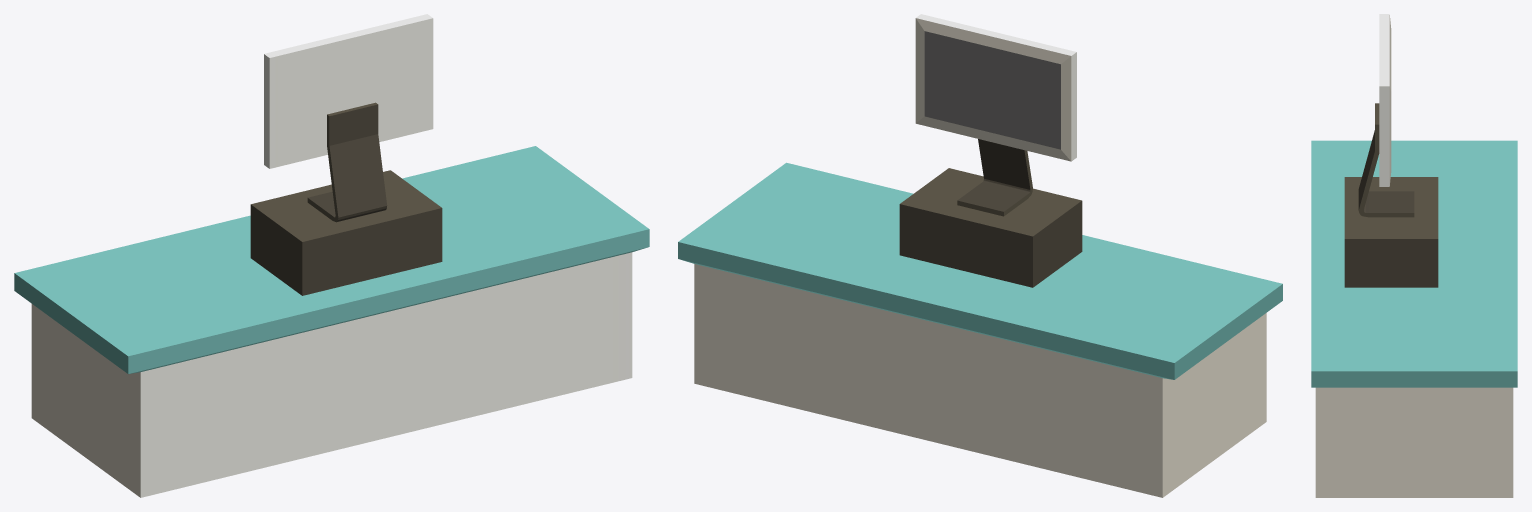
The model's file is Store_Counter.FBX.
3 renders of one model, left to right at view 1: azimuth 30°, elevation 25°; view 2: azimuth 150°, elevation 25°; view 3: azimuth 270°, elevation 25°, orthographic. The views are drawn at different scales.
Visible parts, largest first — view 1: Plane036; view 2: Plane036; view 3: Plane036.
Boxes of the visible parts, x1,y1,x2,y2 form: Plane036: (14, 14, 649, 497); Plane036: (678, 14, 1282, 497); Plane036: (1311, 14, 1517, 497).
Size of the model in its own units: 57.9 by 39.7 by 21.88.
